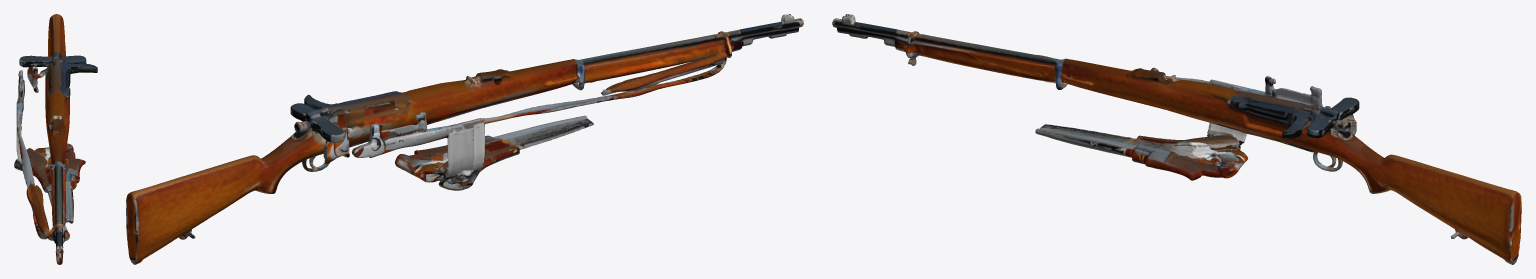
3 renders of one model, left to right at view 1: azimuth 30°, elevation 25°; view 2: azimuth 150°, elevation 25°; view 3: azimuth 270°, elevation 25°, orthographic. The views are drawn at different scales.
Visible parts, largest first — view 1: tripo_node_bfa04628-a9ca-49d9-94e1-1b1e9260b7af; view 2: tripo_node_bfa04628-a9ca-49d9-94e1-1b1e9260b7af; view 3: tripo_node_bfa04628-a9ca-49d9-94e1-1b1e9260b7af.
Boxes of the visible parts, x1=… form: tripo_node_bfa04628-a9ca-49d9-94e1-1b1e9260b7af: x1=14, y1=14, x2=97, y2=264; tripo_node_bfa04628-a9ca-49d9-94e1-1b1e9260b7af: x1=126, y1=14, x2=803, y2=264; tripo_node_bfa04628-a9ca-49d9-94e1-1b1e9260b7af: x1=832, y1=14, x2=1521, y2=264.
Bounding box in the file's own units: 0.5099 × 0.1553 × 0.8753.
1 material, 1 textured.
